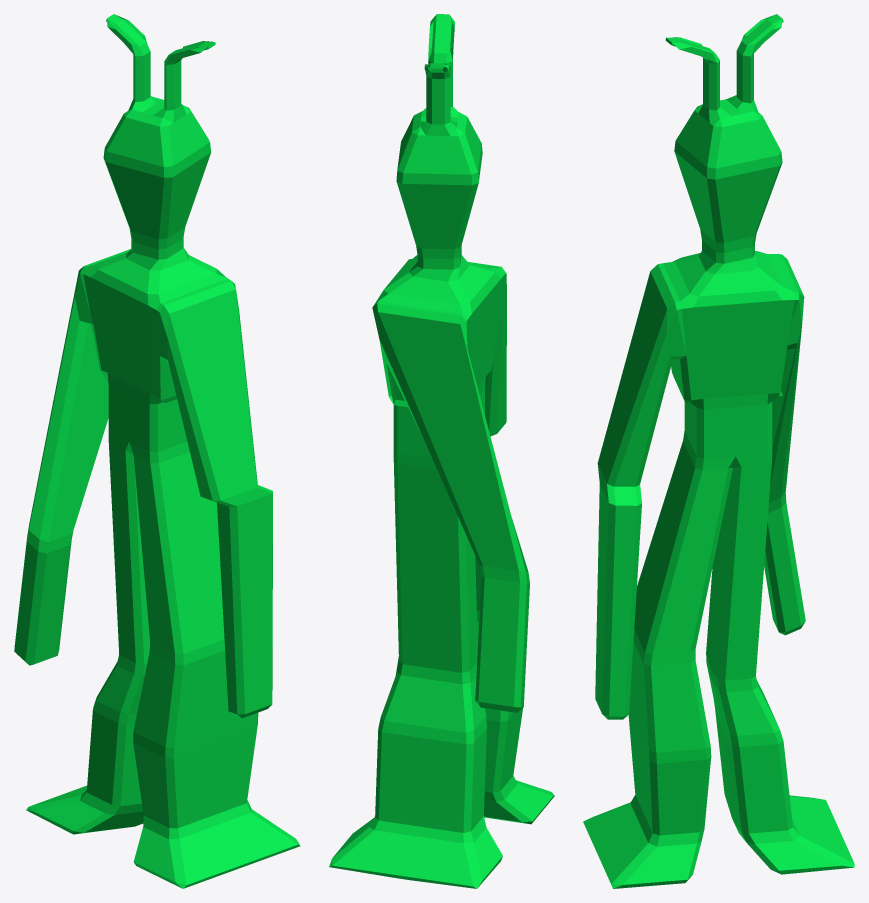
File: Joccee.fbx
3 views of the same model, side by side, from view 1: azimuth 30°, elevation 25°; view 2: azimuth 150°, elevation 25°; view 3: azimuth 270°, elevation 25° (orthographic). The views are drawn at different scales.
Visible parts, largest first — view 1: Joccee; view 2: Joccee; view 3: Joccee.
Boxes of the visible parts, x1=… form: Joccee: x1=14, y1=14, x2=300, y2=888; Joccee: x1=329, y1=14, x2=554, y2=888; Joccee: x1=583, y1=14, x2=854, y2=888.
Bounding box in the file's own units: 333 × 1288 × 382.
